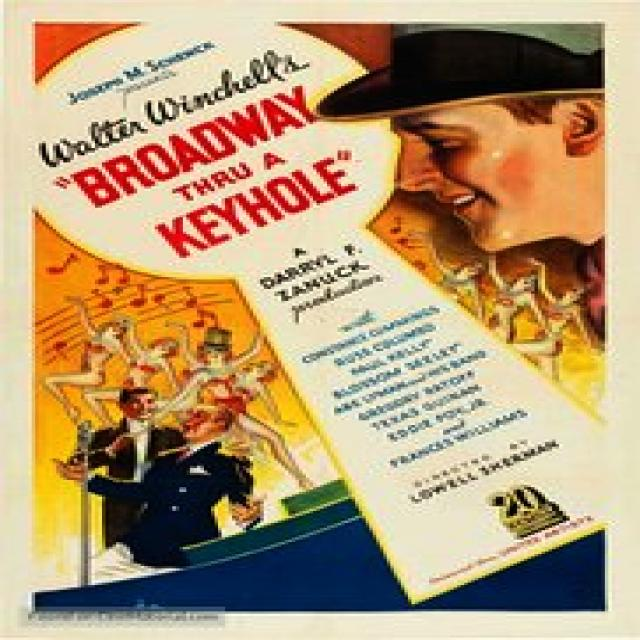movie-judul: (49, 83, 362, 262)
picture: (318, 23, 604, 345), (38, 320, 301, 582)
